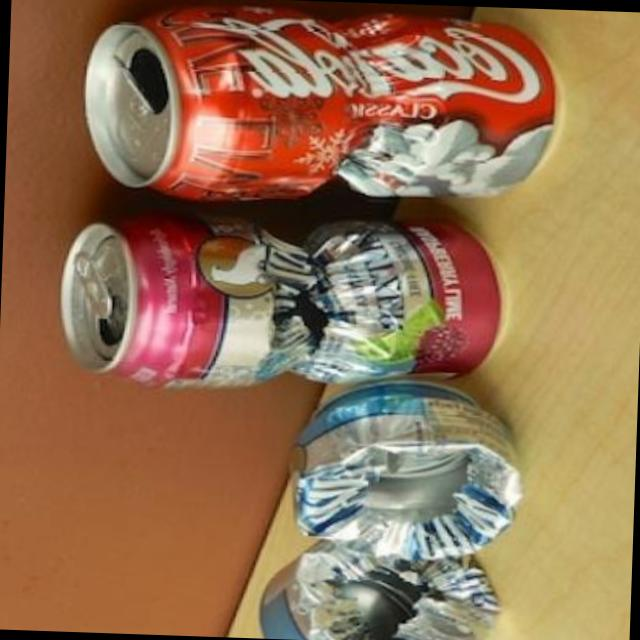metal: (83, 4, 551, 196), (59, 212, 495, 383)
